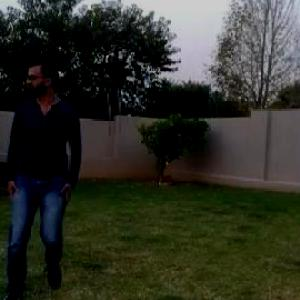follow: (0, 33, 85, 298)
